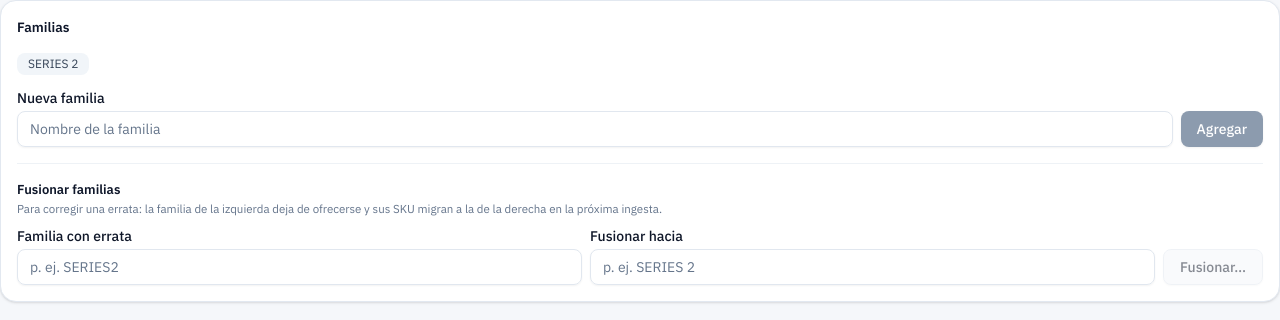
it: ConfigFamilias — Fusionar familias (C, [MVP-2]) › 'Fusionar…' arranca deshabilitado y solo se habilita con alias y destino distintos
This screenshot has width=1280, height=320.
Expected: the text "SERIES 2" is shown, left=17, top=53, right=90, bottom=75
Expected: the button "Fusionar…" is disabled, left=1163, top=249, right=1263, bottom=285
In the field labelled "Familia con errata": point(300, 267) left=17, top=249, right=582, bottom=285, type "SERIES2"
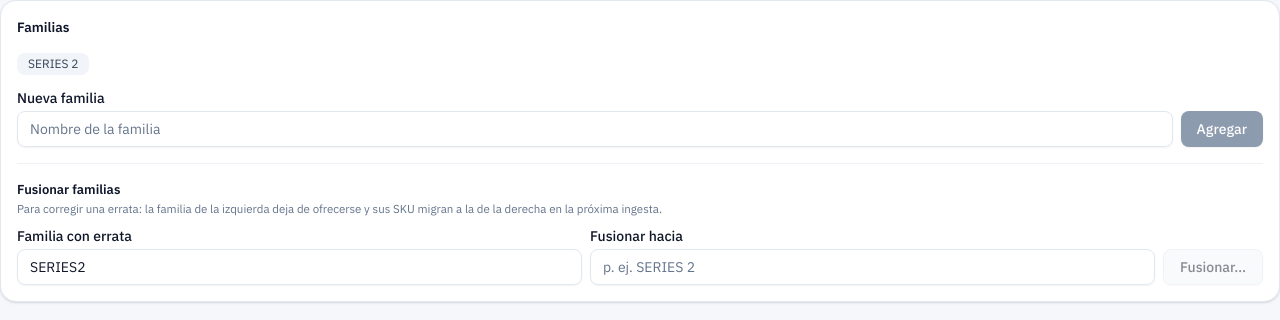
Expected: the button "Fusionar…" is disabled, left=1163, top=249, right=1263, bottom=285
In the field labelled "Fusionar hacia": point(872, 267) left=590, top=249, right=1155, bottom=285, type "SERIES2"
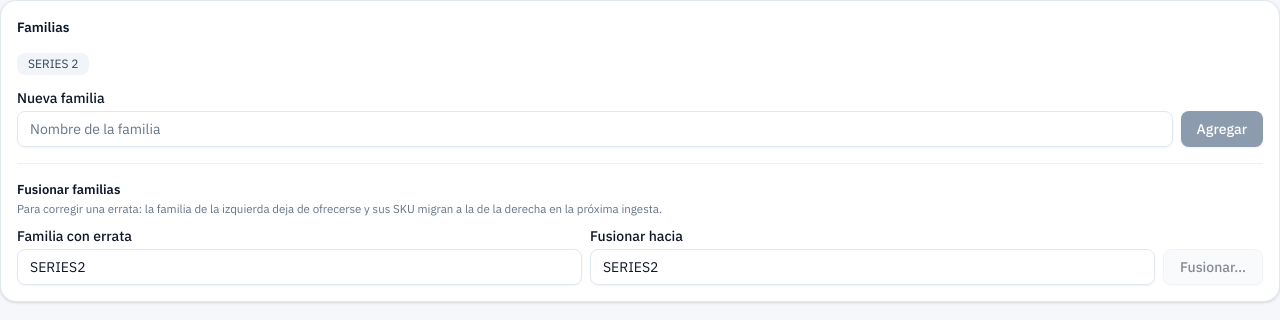
Expected: the button "Fusionar…" is disabled, left=1163, top=249, right=1263, bottom=285
Replace the text in the field labelled "Fusionar hacia" with "SERIES 2": point(872, 267) left=590, top=249, right=1155, bottom=285
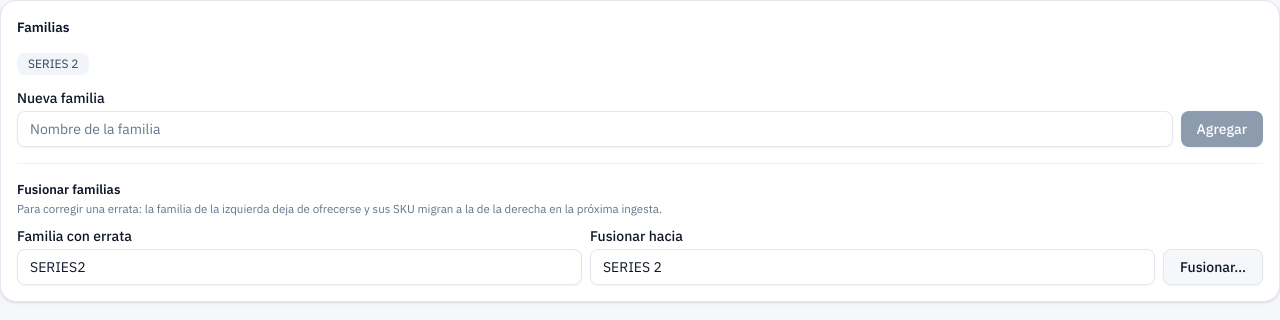
Expected: the button "Fusionar…" is enabled, left=1163, top=249, right=1263, bottom=285
